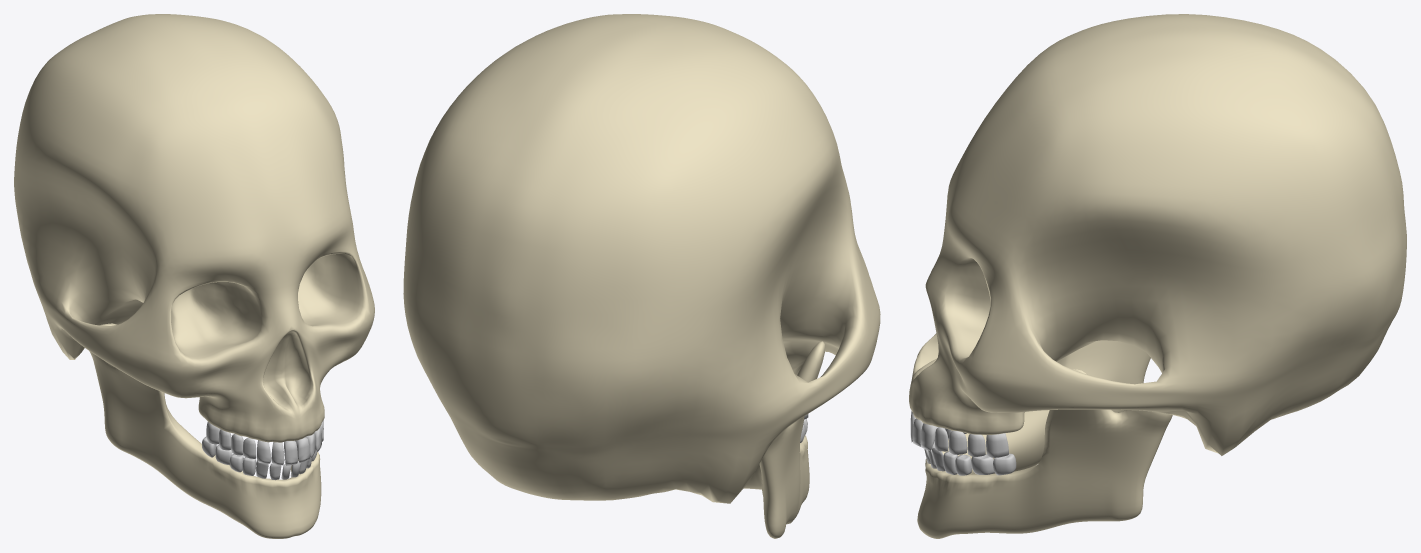
The picture shows the model from 3 angles, left to right: view 1: azimuth 30°, elevation 25°; view 2: azimuth 150°, elevation 25°; view 3: azimuth 270°, elevation 25°; orthographic projection. The views are drawn at different scales.
Parts seen in each view (by area): view 1: skull_29, lower jaw_28; view 2: skull_29, lower jaw_28; view 3: skull_29, lower jaw_28.
Part boxes in pixels (x1=…): skull_29: x1=14, y1=14, x2=374, y2=442; lower jaw_28: x1=89, y1=323, x2=321, y2=538; skull_29: x1=403, y1=14, x2=880, y2=503; lower jaw_28: x1=743, y1=341, x2=824, y2=538; skull_29: x1=909, y1=14, x2=1406, y2=455; lower jaw_28: x1=917, y1=340, x2=1172, y2=538.
Size of the model in its own units: 1.81 by 2.74 by 2.51.
